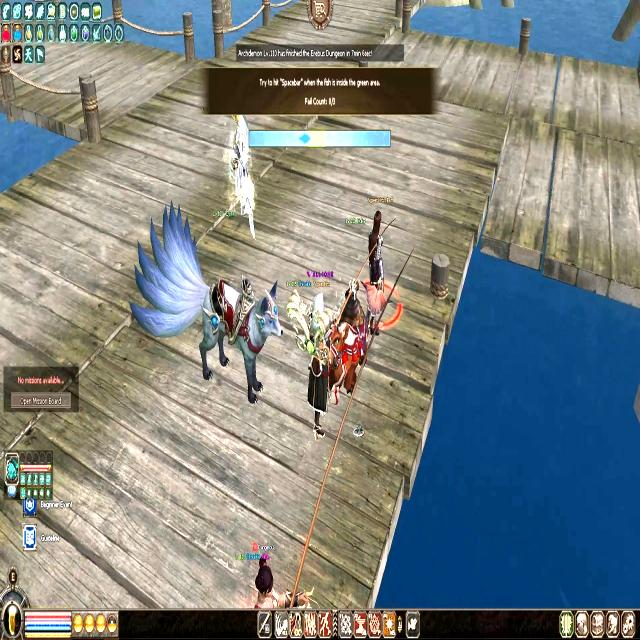fishes: (298, 131, 310, 145)
